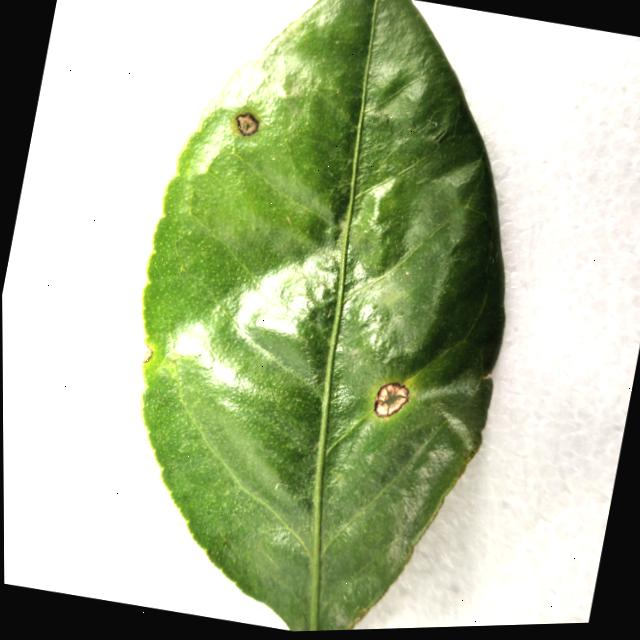antracnose: (140, 0, 503, 631), (373, 383, 408, 417), (235, 114, 257, 136), (142, 342, 152, 363)
